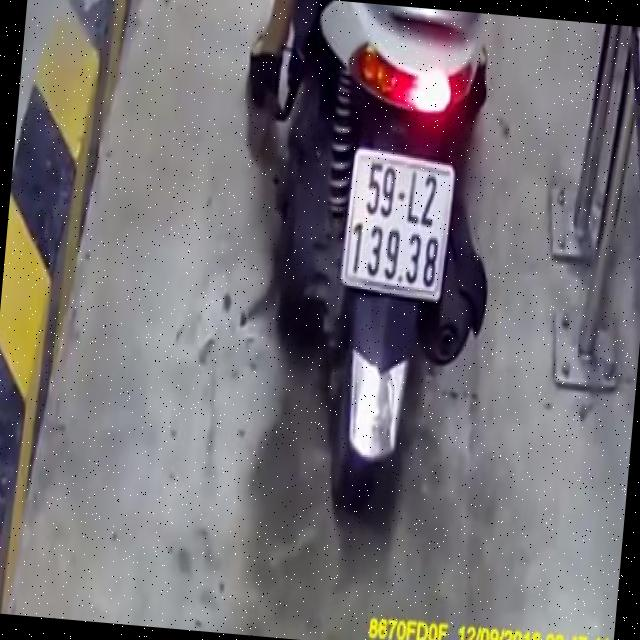license_plate: (344, 147, 455, 302)
